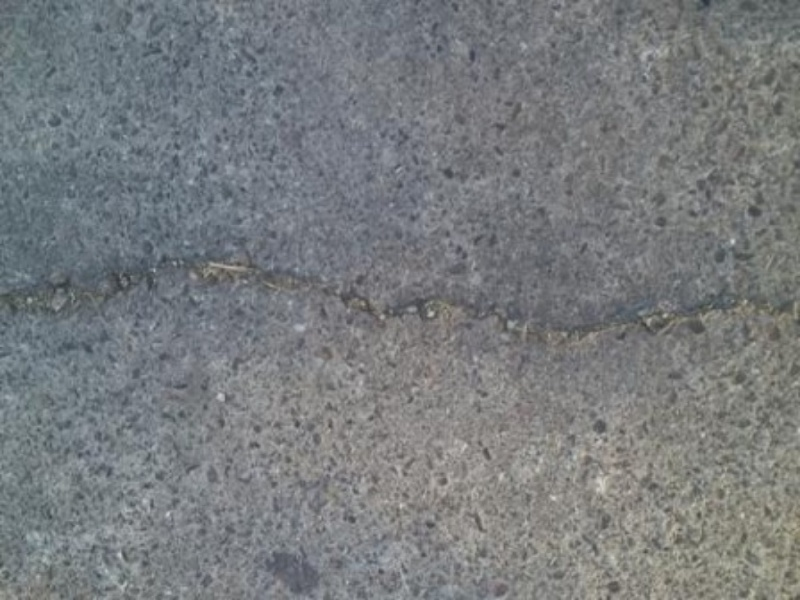crack: (6, 233, 788, 352)
